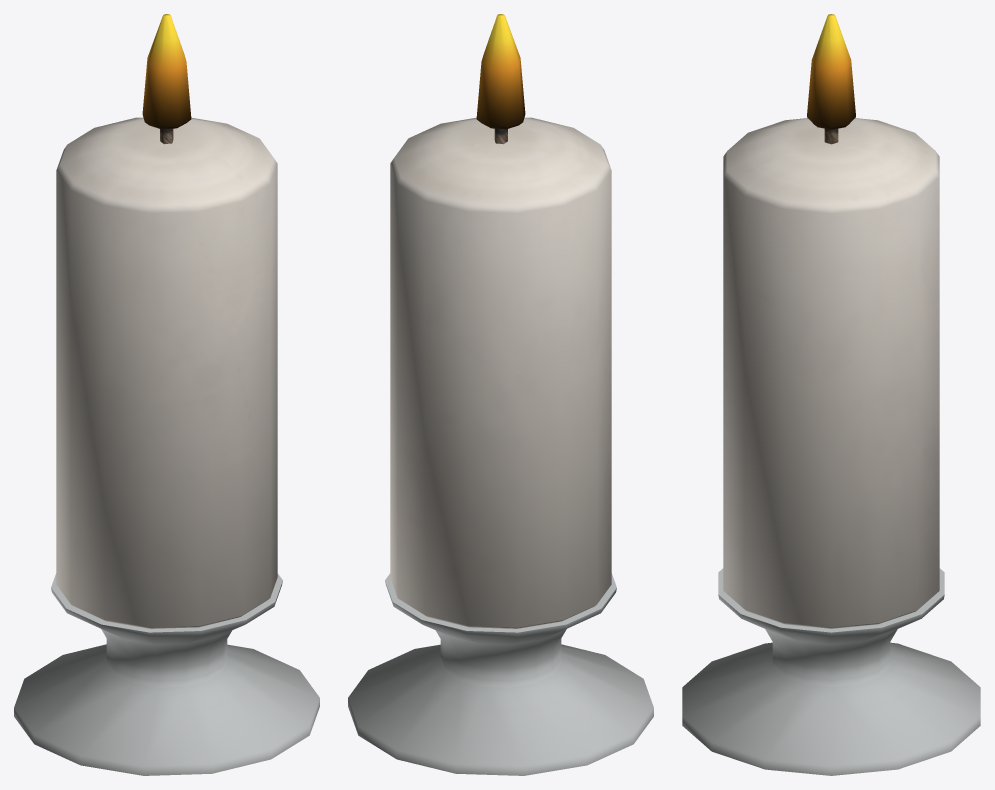
The model's file is DecorCandles01_5.FBX.
3 renders of one model, left to right at view 1: azimuth 30°, elevation 25°; view 2: azimuth 150°, elevation 25°; view 3: azimuth 270°, elevation 25°, orthographic.
Parts seen in each view (by area): view 1: DecorCandles01_5; view 2: DecorCandles01_5; view 3: DecorCandles01_5.
Boxes of the visible parts, left/top/right/bottom form: DecorCandles01_5: left=14, top=14, right=319, bottom=775; DecorCandles01_5: left=348, top=14, right=653, bottom=775; DecorCandles01_5: left=682, top=14, right=980, bottom=775.
Size of what is drawn, in the model's own units: 0.1313 by 0.329 by 0.128.
